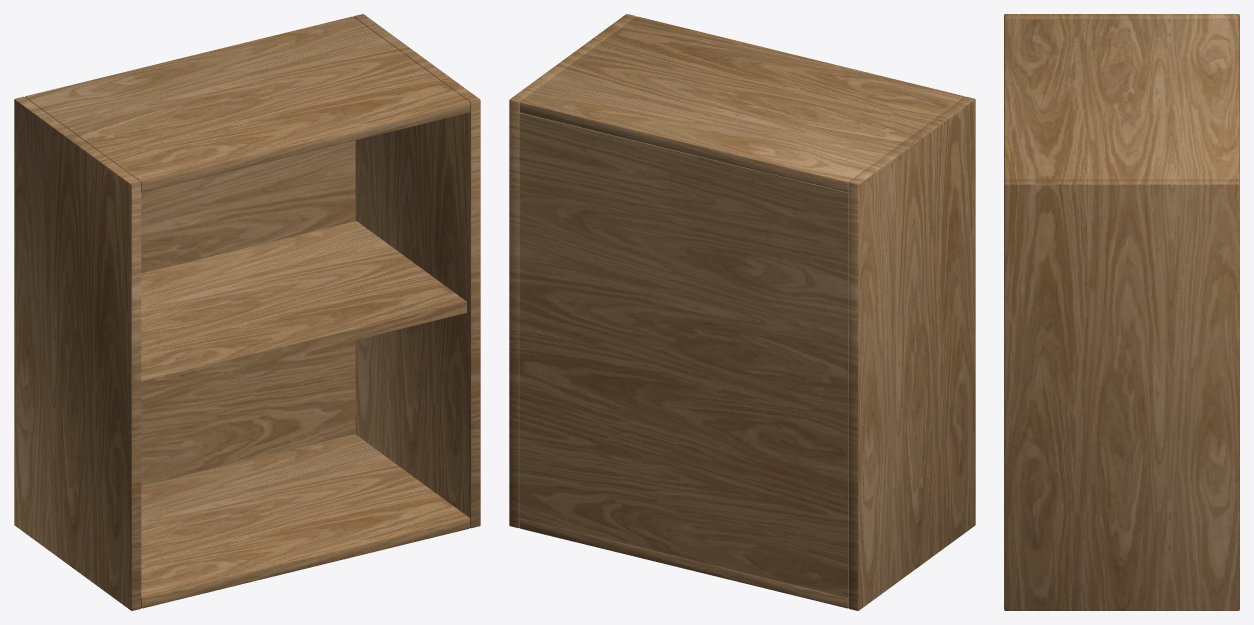
The model's file is armario_alto_cocina_abierto_base.glb.
3 renders of one model, left to right at view 1: azimuth 30°, elevation 25°; view 2: azimuth 150°, elevation 25°; view 3: azimuth 270°, elevation 25°, orthographic.
Parts seen in each view (by area): view 1: armario_alto_cocina_abierto_base; view 2: armario_alto_cocina_abierto_base; view 3: armario_alto_cocina_abierto_base.
Boxes of the visible parts, bbox=[...] form: armario_alto_cocina_abierto_base: bbox=[14, 14, 480, 610]; armario_alto_cocina_abierto_base: bbox=[509, 14, 975, 610]; armario_alto_cocina_abierto_base: bbox=[1004, 14, 1239, 610].
Bounding box in the file's own units: 0.6 × 0.7 × 0.3499.
1 material, 1 textured.
